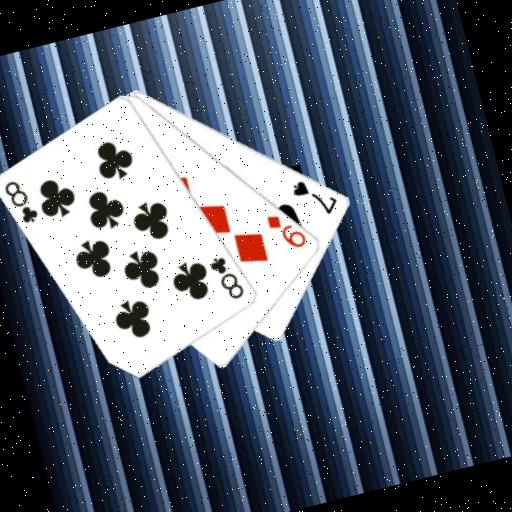7S: (288, 170, 343, 224)
8C: (205, 250, 248, 306), (0, 173, 42, 230)
9D: (262, 205, 310, 257)
